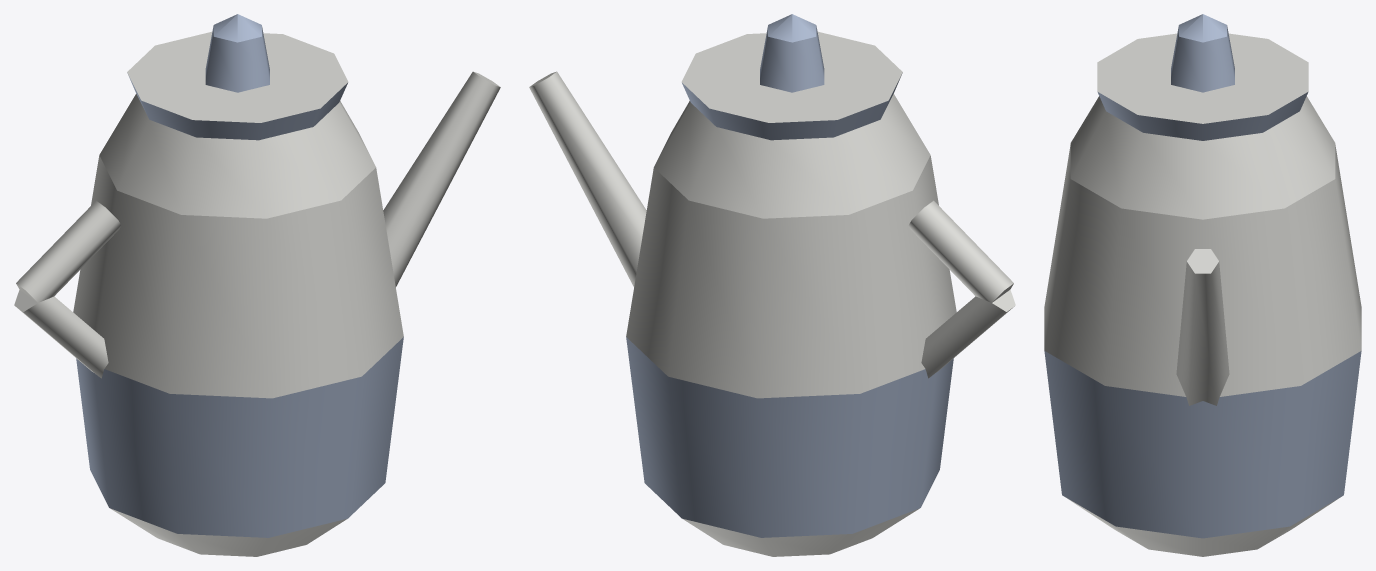
Rendered from teapot_tall.glb.
The picture shows the model from 3 angles, left to right: view 1: azimuth 30°, elevation 25°; view 2: azimuth 150°, elevation 25°; view 3: azimuth 270°, elevation 25°; orthographic projection.
Visible parts, largest first — view 1: Teapot_tall; view 2: Teapot_tall; view 3: Teapot_tall.
Boxes of the visible parts, x1,y1,x2,y2 form: Teapot_tall: (14,14,500,556); Teapot_tall: (529,14,1015,556); Teapot_tall: (1044,14,1361,556).
Bounding box in the file's own units: 1.19 × 1.2 × 0.6848.
